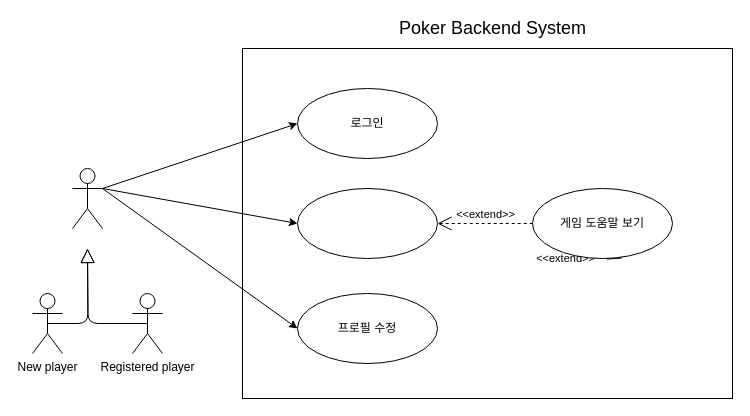
The diagram is 750 pixels wide and 416 high, and some of its shapes have lost their labels. Here are the shapes that lost their labels. From the top down, the box of each, then its label:
(72, 168, 102, 228): Player
(296, 188, 438, 258): 게임 시작
